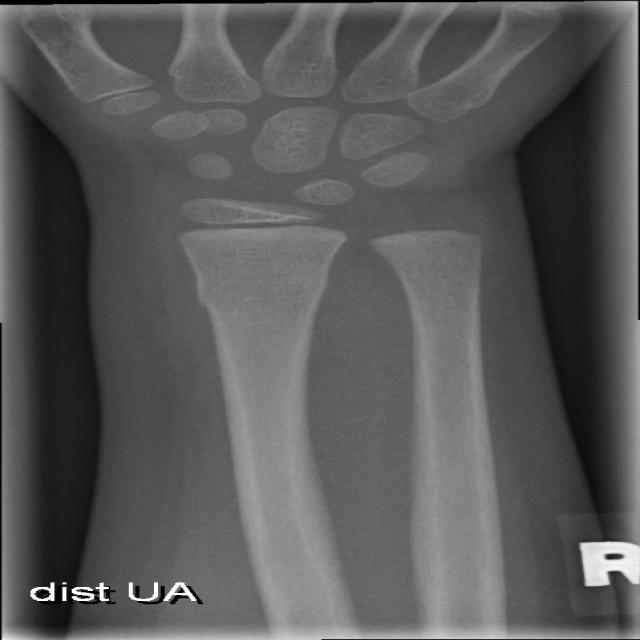radius fracture: (156, 257, 377, 356)
